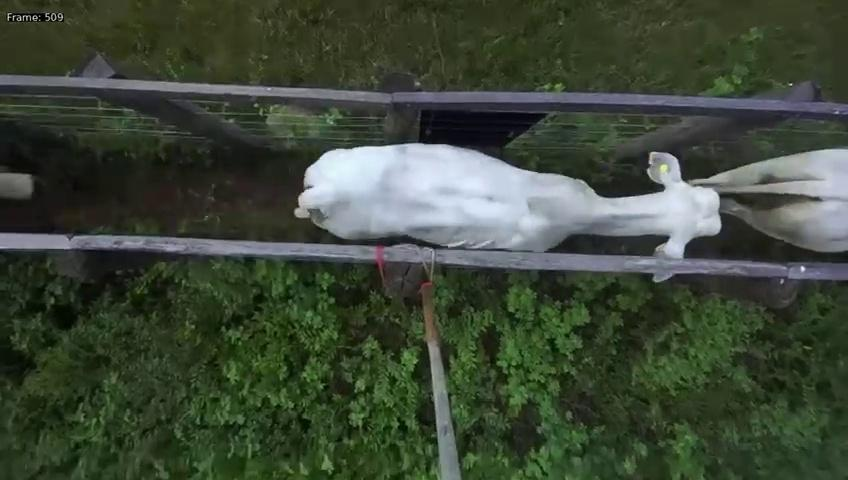cattle: (286, 102, 727, 287)
